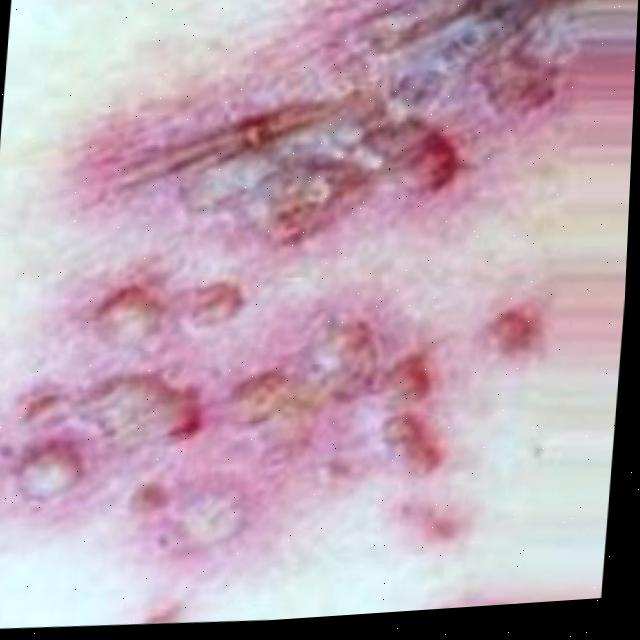Shingles: (3, 0, 578, 569)
